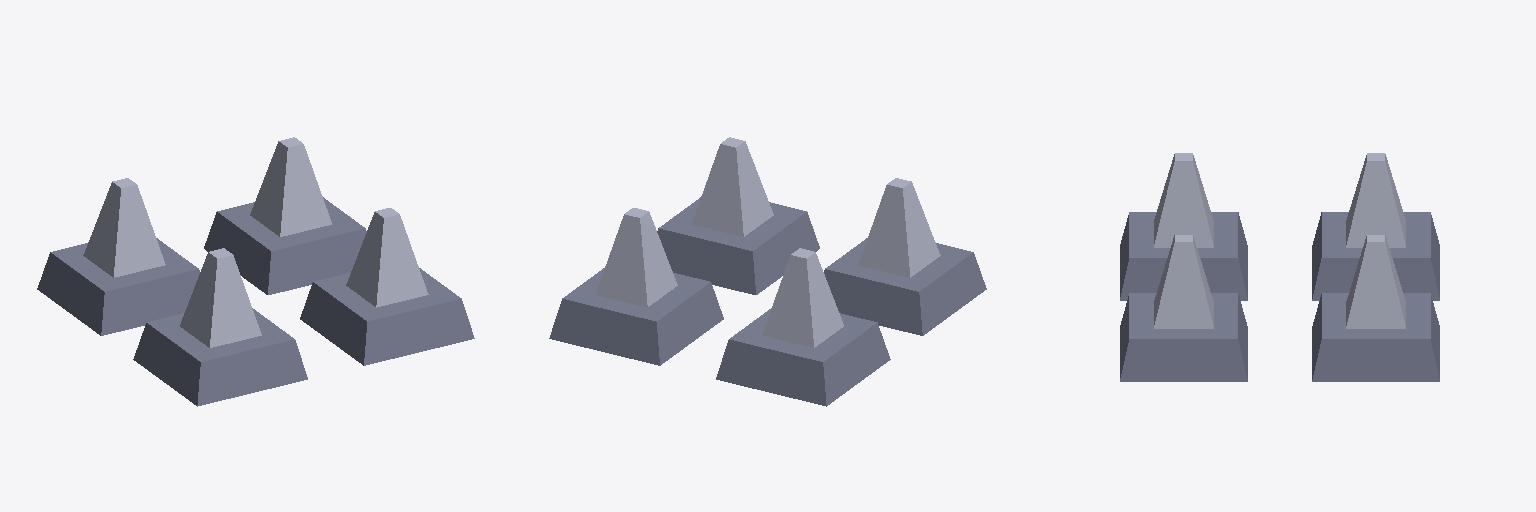
Rendered from trap.obj.
3 renders of one model, left to right at view 1: azimuth 30°, elevation 25°; view 2: azimuth 150°, elevation 25°; view 3: azimuth 270°, elevation 25°, orthographic.
Visible parts, largest first — view 1: trap; view 2: trap; view 3: trap.
Boxes of the visible parts, box(x1,y1,x2,y2) form: trap: box(37, 137, 474, 406); trap: box(549, 137, 986, 406); trap: box(1120, 153, 1439, 381).
Size of the model in its own units: 0.6375 by 0.255 by 0.6375.